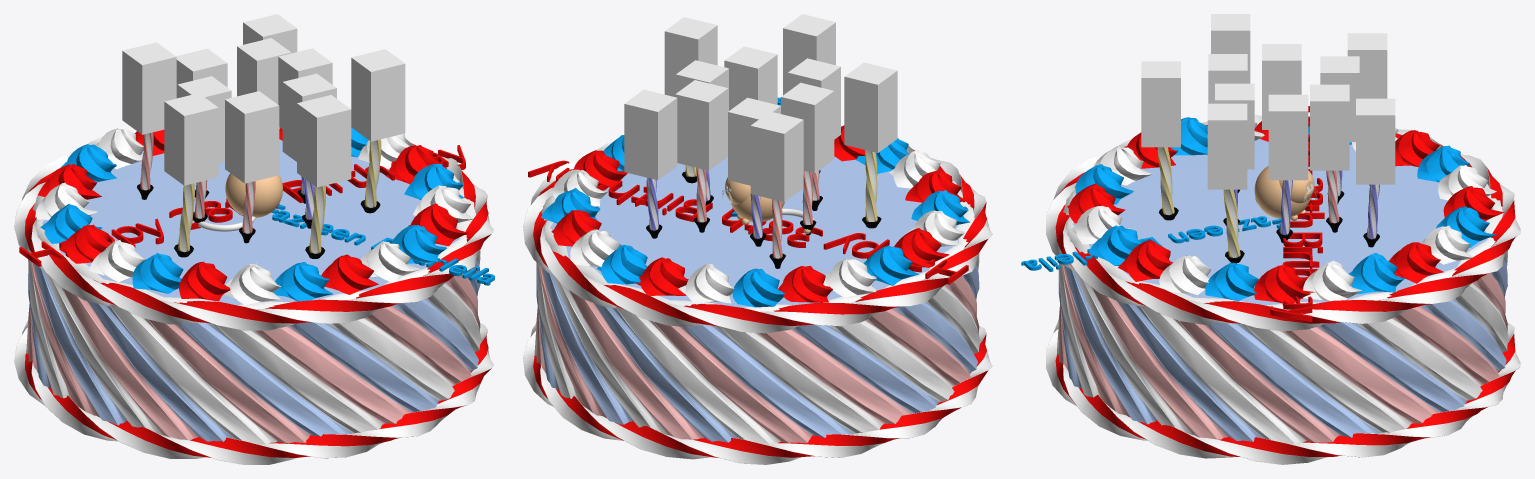
The model's file is bcake.glb.
The picture shows the model from 3 angles, left to right: view 1: azimuth 30°, elevation 25°; view 2: azimuth 150°, elevation 25°; view 3: azimuth 270°, elevation 25°; orthographic projection. The views are drawn at different scales.
Visible parts, largest first — view 1: 10868_birthday-cake_v3, Smoke Domain.008, Smoke Domain.009, Smoke Domain.010, Smoke Domain.006, Smoke Domain, Text, Smoke Domain.002, Smoke Domain.007, fat cat obj.022, Text.001, Smoke Domain.004 (+8 smaller); view 2: 10868_birthday-cake_v3, Smoke Domain.003, Smoke Domain.010, Smoke Domain, Smoke Domain.002, Text, Smoke Domain.005, Smoke Domain.008, Smoke Domain.007, Smoke Domain.009, Smoke Domain.001, Smoke Domain.006 (+8 smaller); view 3: 10868_birthday-cake_v3, Smoke Domain.008, Smoke Domain.004, Smoke Domain.002, Smoke Domain.009, Smoke Domain.003, Text, Smoke Domain.005, Smoke Domain, fat cat obj.022, Smoke Domain.010, Text.001 (+8 smaller).
Part boxes in pixels (bbox=[...]): 10868_birthday-cake_v3: bbox=[14, 127, 493, 464]; Smoke Domain.008: bbox=[351, 49, 405, 141]; Smoke Domain.009: bbox=[297, 95, 351, 187]; Smoke Domain.010: bbox=[164, 93, 218, 185]; Smoke Domain.006: bbox=[225, 91, 279, 183]; Smoke Domain: bbox=[122, 42, 176, 134]; Text: bbox=[19, 145, 465, 266]; Smoke Domain.002: bbox=[237, 38, 291, 104]; Smoke Domain.007: bbox=[282, 73, 336, 161]; fat cat obj.022: bbox=[194, 173, 282, 231]; Text.001: bbox=[271, 204, 494, 285]; Smoke Domain.004: bbox=[278, 48, 332, 129]; 10868_birthday-cake_v3: bbox=[523, 125, 992, 464]; Smoke Domain.003: bbox=[624, 89, 677, 180]; Smoke Domain.010: bbox=[844, 62, 897, 152]; Smoke Domain: bbox=[750, 111, 803, 201]; Smoke Domain.002: bbox=[675, 80, 728, 170]; Text: bbox=[528, 160, 968, 284]; Smoke Domain.005: bbox=[781, 82, 834, 173]; Smoke Domain.008: bbox=[664, 17, 717, 96]; Smoke Domain.007: bbox=[724, 46, 777, 110]; Smoke Domain.009: bbox=[783, 14, 835, 95]; Smoke Domain.001: bbox=[728, 97, 780, 185]; Smoke Domain.006: bbox=[787, 58, 840, 139]; 10868_birthday-cake_v3: bbox=[1046, 115, 1520, 464]; Smoke Domain.008: bbox=[1207, 103, 1247, 189]; Smoke Domain.004: bbox=[1268, 94, 1308, 180]; Smoke Domain.002: bbox=[1310, 84, 1349, 170]; Smoke Domain.009: bbox=[1141, 61, 1180, 147]; Smoke Domain.003: bbox=[1356, 98, 1395, 184]; Text: bbox=[1270, 106, 1324, 321]; Smoke Domain.005: bbox=[1262, 44, 1301, 129]; Smoke Domain: bbox=[1347, 33, 1387, 98]; fat cat obj.022: bbox=[1254, 166, 1317, 220]; Smoke Domain.010: bbox=[1211, 14, 1250, 83]; Text.001: bbox=[1021, 216, 1281, 271].
Size of the model in its own units: 17.53 by 11.74 by 17.52.
